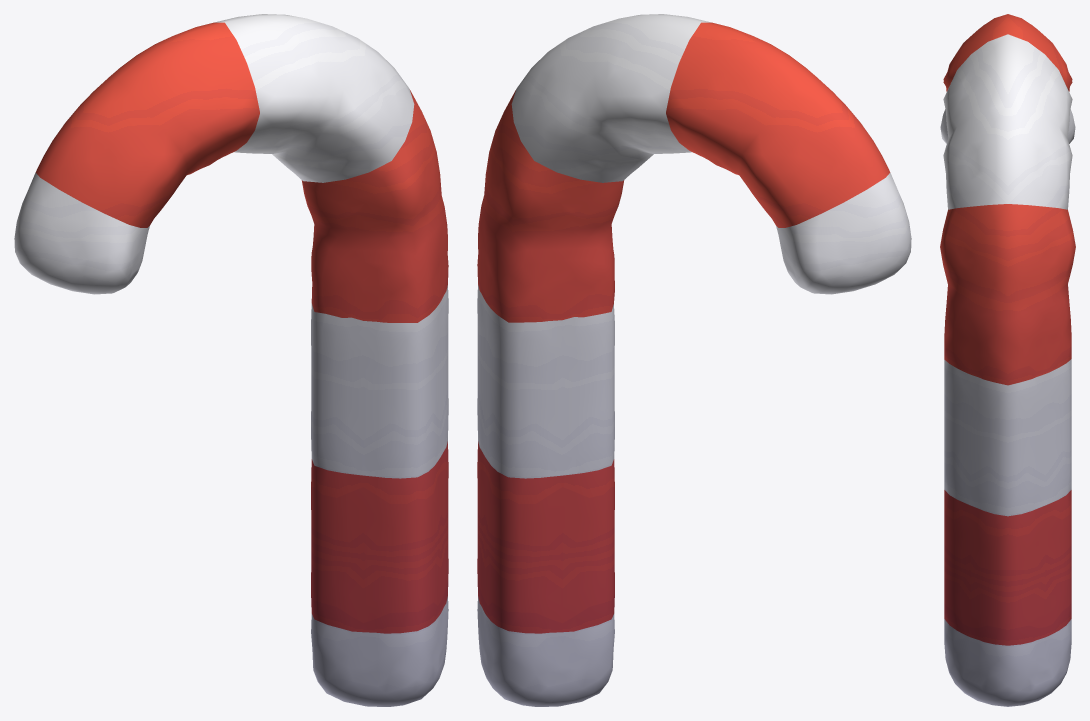
The picture shows the model from 3 angles, left to right: view 1: azimuth 30°, elevation 25°; view 2: azimuth 150°, elevation 25°; view 3: azimuth 270°, elevation 25°; orthographic projection. The views are drawn at different scales.
Bounding box in the file's own units: 0.6091 × 0.9666 × 0.1997.
Materials: 1 (1 with a texture image).
